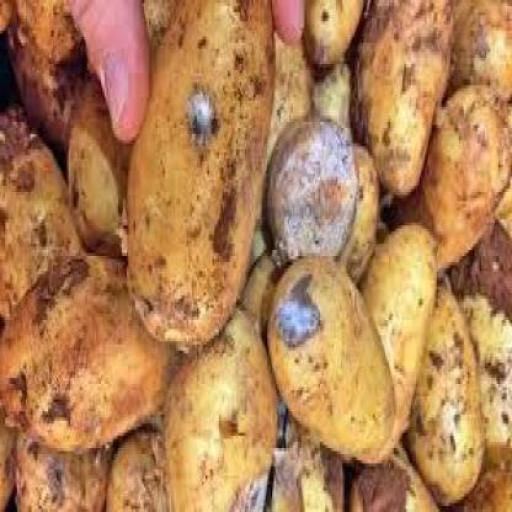biodegradable: (127, 3, 279, 356), (2, 252, 186, 454), (267, 259, 399, 466), (389, 82, 511, 282), (164, 308, 279, 510), (353, 3, 456, 201), (360, 226, 440, 466), (409, 278, 488, 512), (2, 113, 76, 329), (268, 122, 361, 260), (70, 80, 132, 262), (7, 25, 82, 155), (272, 408, 347, 510), (18, 436, 116, 510), (464, 296, 511, 450), (267, 37, 314, 180), (448, 219, 511, 321), (452, 4, 512, 110), (348, 448, 441, 511), (340, 146, 382, 284), (107, 426, 174, 511), (2, 3, 84, 70), (306, 3, 368, 73), (241, 250, 283, 351), (465, 448, 511, 511), (312, 64, 354, 128), (1, 408, 26, 510), (250, 232, 269, 274)
